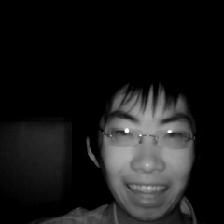happy: (82, 61, 201, 221)
